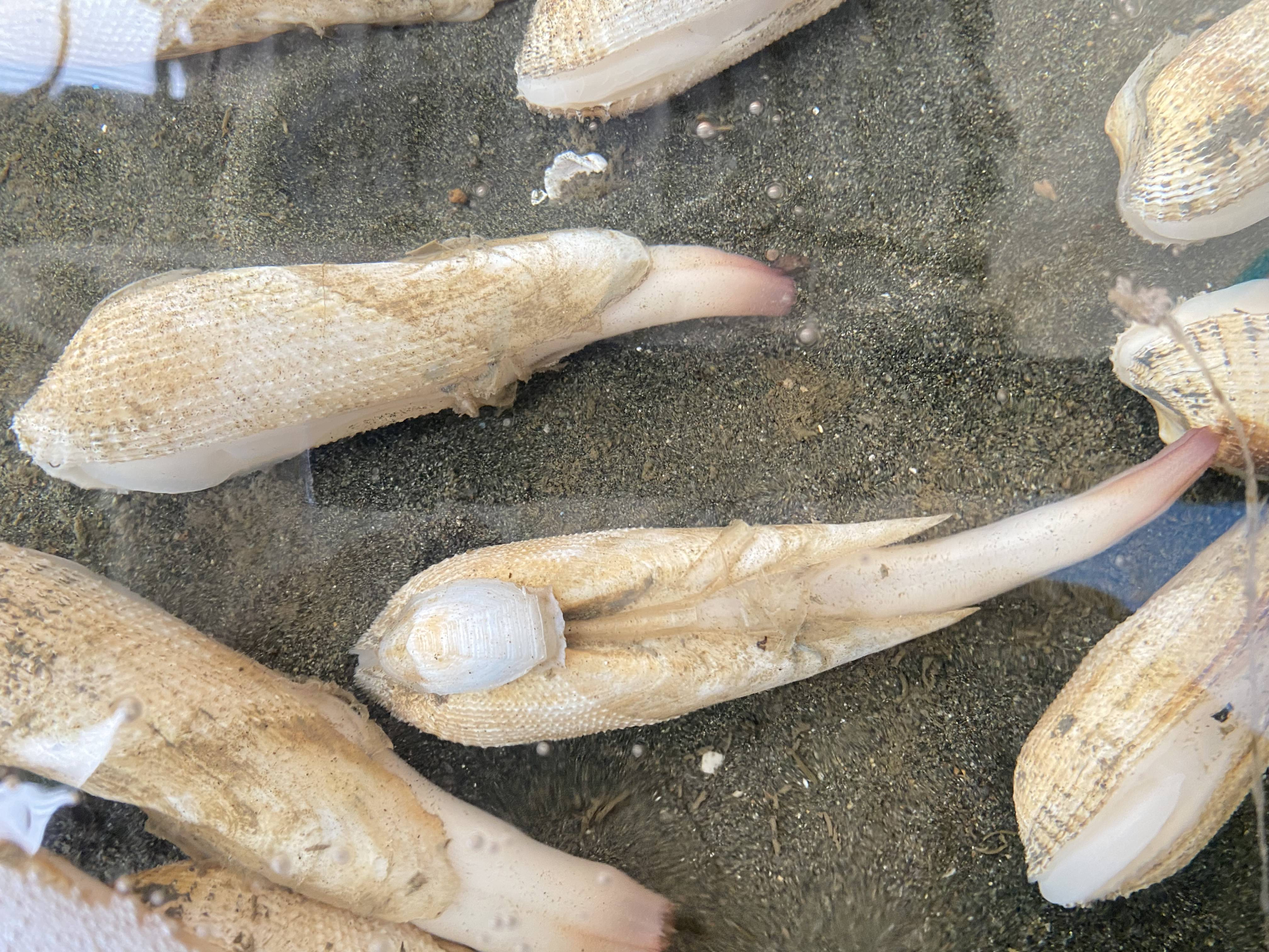Healthy: (0, 542, 672, 952), (356, 428, 1218, 745), (13, 229, 792, 492)
